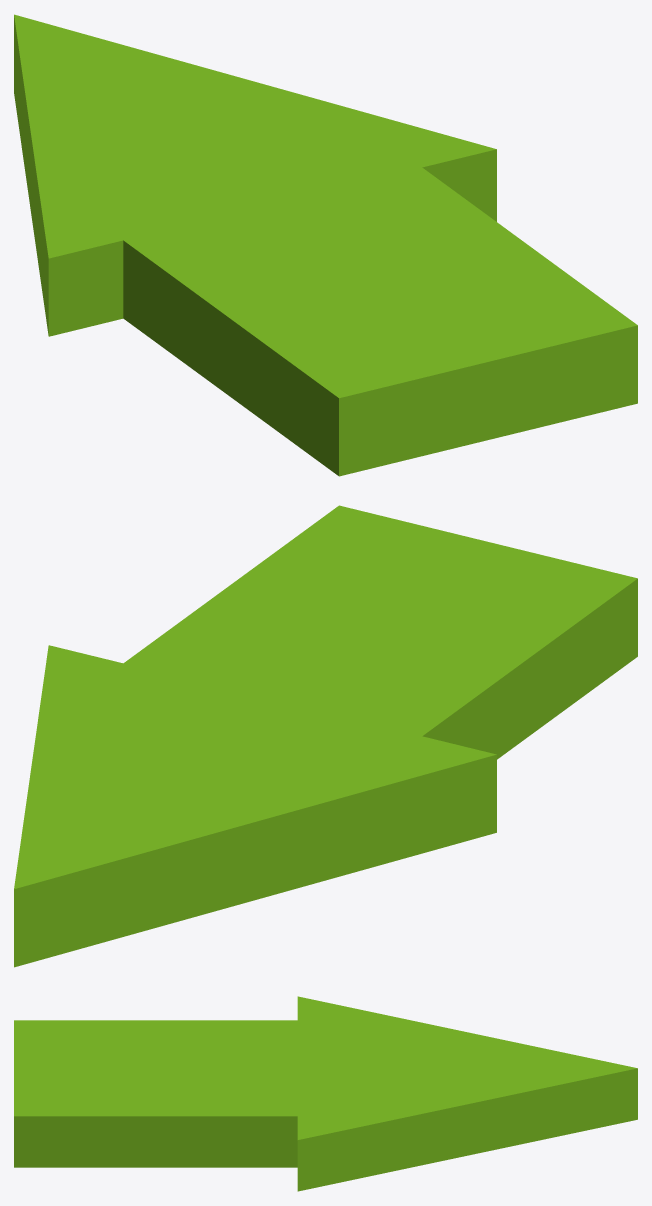
Rendered from arrow.glb.
3 renders of one model, top to bottom at view 1: azimuth 30°, elevation 25°; view 2: azimuth 150°, elevation 25°; view 3: azimuth 270°, elevation 25°, orthographic. The views are drawn at different scales.
Parts seen in each view (by area): view 1: Cube; view 2: Cube; view 3: Cube.
Part boxes in pixels (bbox=[...]): Cube: bbox=[14, 14, 637, 476]; Cube: bbox=[14, 505, 637, 967]; Cube: bbox=[14, 996, 637, 1191].
Size of the model in its own units: 1.2 by 0.2 by 2.2.
